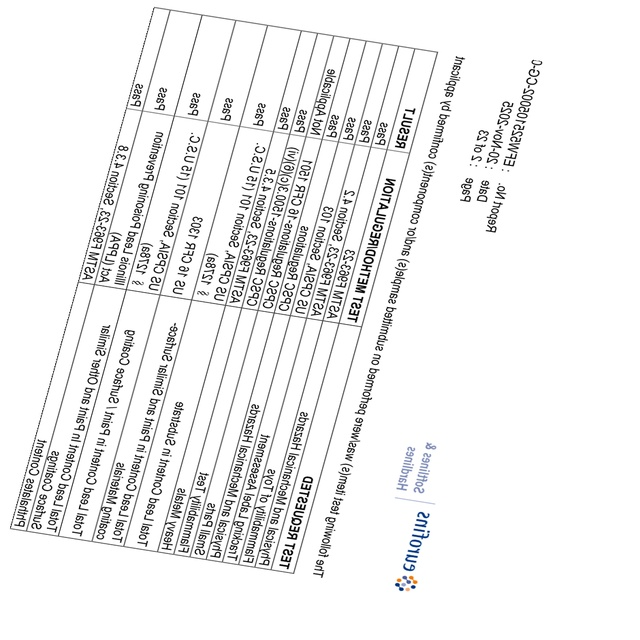eurofins: (394, 509, 434, 596)
